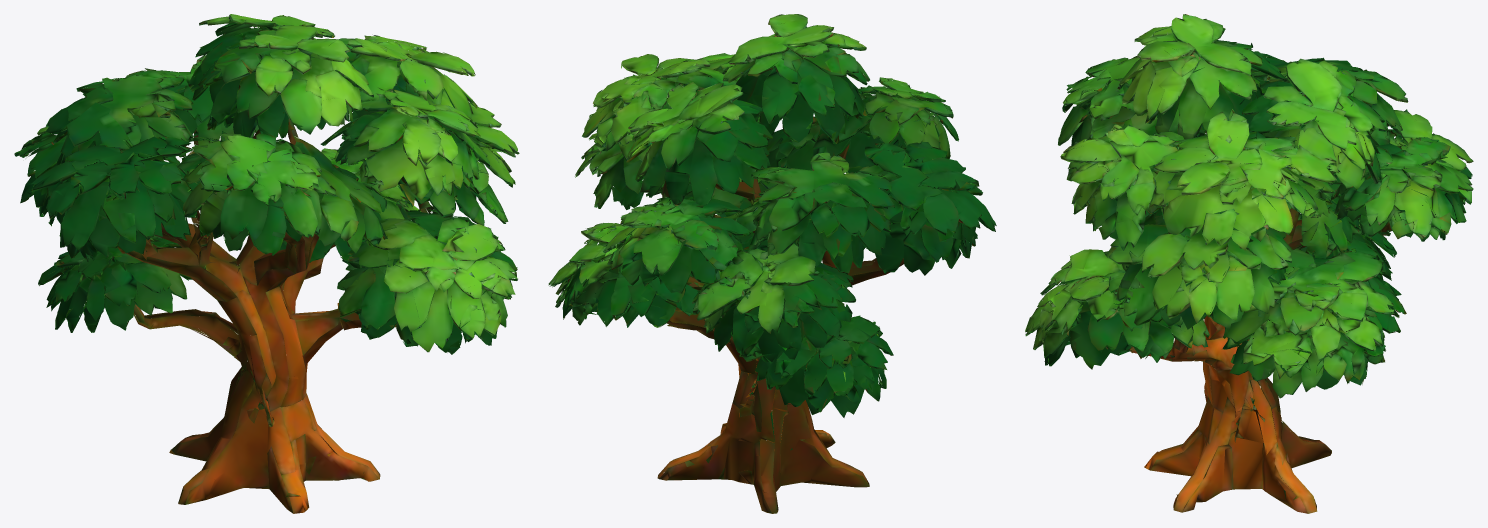
Rendered from oakhaven_oak.glb.
3 views of the same model, side by side, from view 1: azimuth 30°, elevation 25°; view 2: azimuth 150°, elevation 25°; view 3: azimuth 270°, elevation 25° (orthographic). The views are drawn at different scales.
Parts seen in each view (by area): view 1: Oakhaven_Oak; view 2: Oakhaven_Oak; view 3: Oakhaven_Oak.
Boxes of the visible parts, x1,y1,x2,y2 form: Oakhaven_Oak: [14, 14, 519, 513]; Oakhaven_Oak: [548, 14, 996, 513]; Oakhaven_Oak: [1025, 14, 1473, 513].
Bounding box in the file's own units: 2.18 × 2.16 × 1.98.
1 material, 1 textured.
